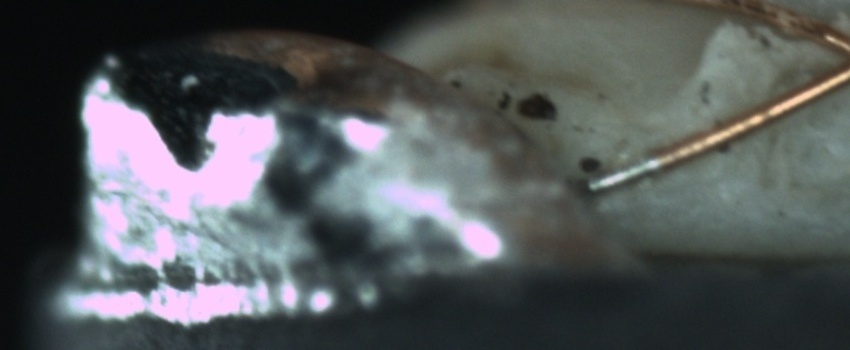TS: (578, 157, 657, 195)
